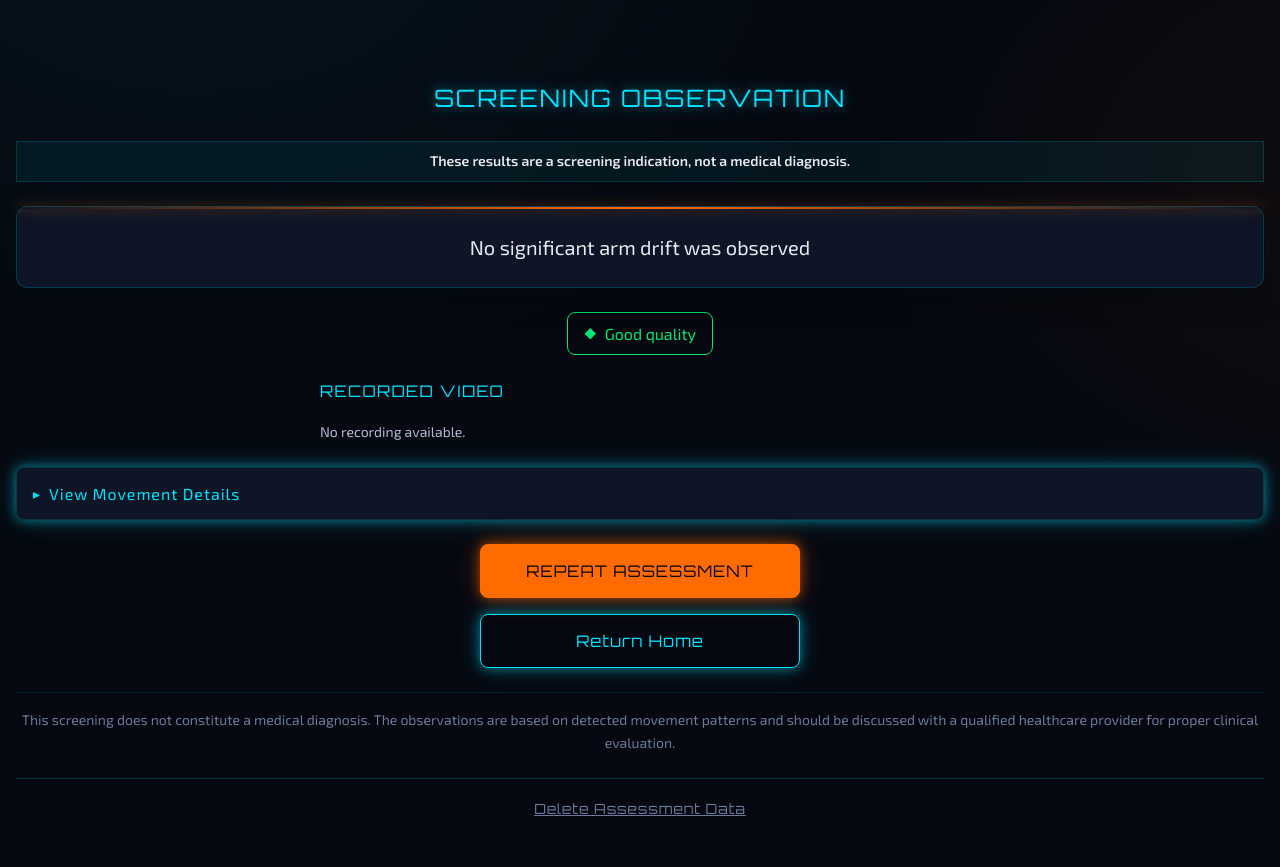
Test: ResultsScreen › Collapsible Movement Details › shows drift values as percentages
Click the button "▸ View Movement Details".
click(145, 494)  # box [16,467,1264,520]
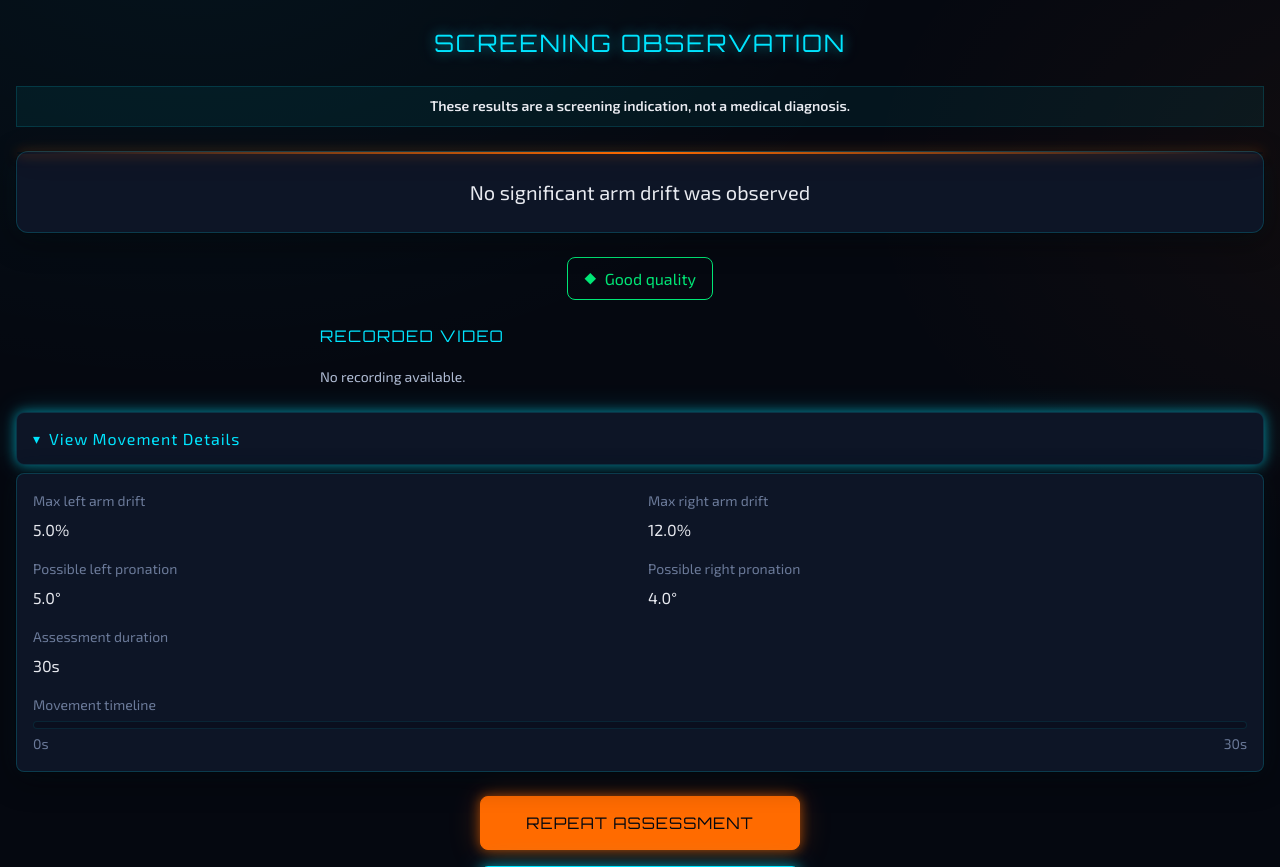
Expected: the text "5.0%" is shown, [33,520,69,539]
Expected: the text "12.0%" is shown, [648,520,691,539]
